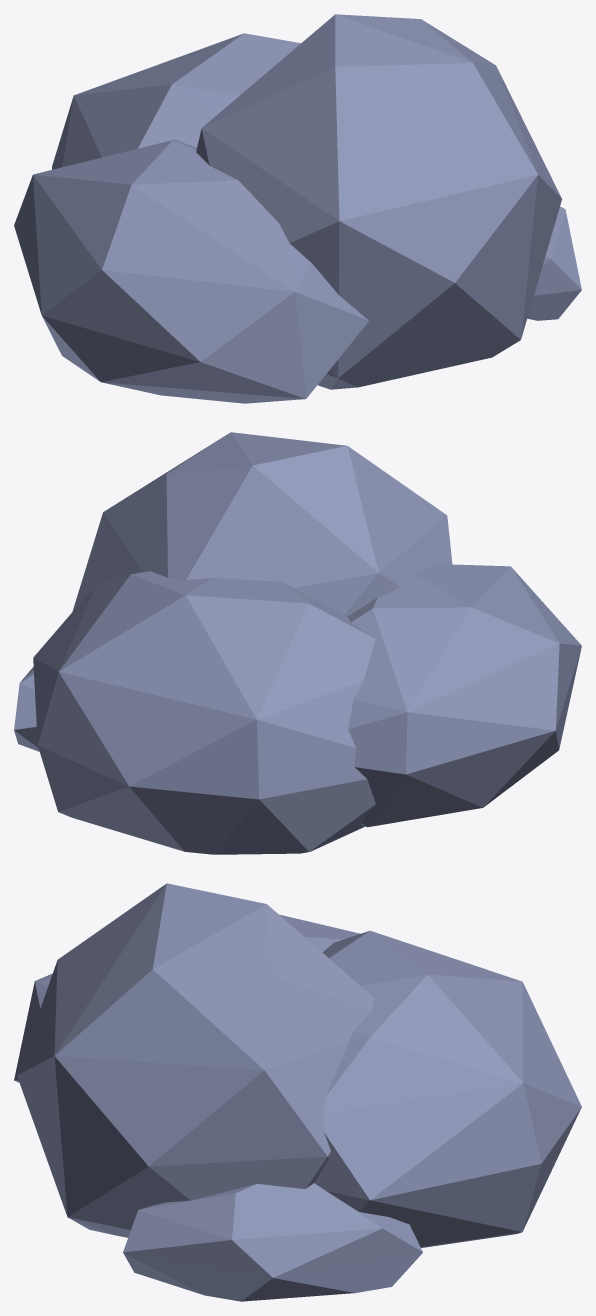
File: Rock_1.fbx
3 renders of one model, top to bottom at view 1: azimuth 30°, elevation 25°; view 2: azimuth 150°, elevation 25°; view 3: azimuth 270°, elevation 25°, orthographic. The views are drawn at different scales.
Parts seen in each view (by area): view 1: Icosphere.003; view 2: Icosphere.003; view 3: Icosphere.003.
Boxes of the visible parts, x1,y1,x2,y2 form: Icosphere.003: [14, 14, 581, 403]; Icosphere.003: [14, 432, 581, 854]; Icosphere.003: [14, 883, 581, 1301].
Bounding box in the file's own units: 353 × 186 × 327.
